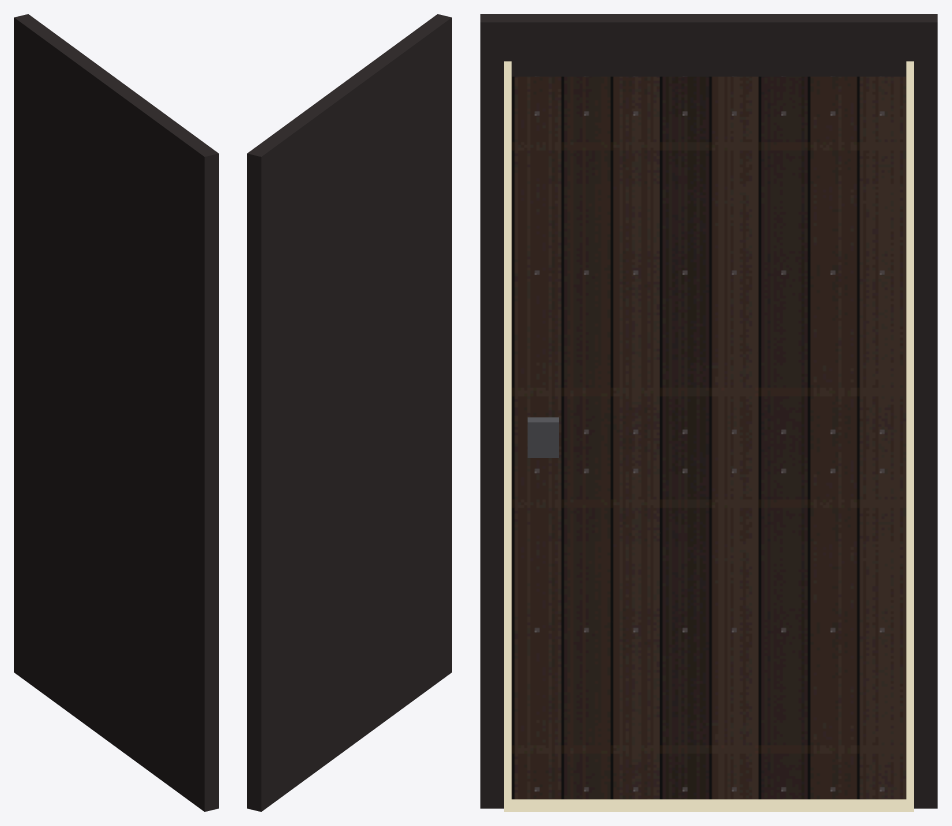
The model's file is porta_para_1950.glb.
The picture shows the model from 3 angles, left to right: view 1: azimuth 30°, elevation 25°; view 2: azimuth 150°, elevation 25°; view 3: azimuth 270°, elevation 25°; orthographic projection. The views are drawn at different scales.
Parts seen in each view (by area): view 1: Porta_0; view 2: Porta_0; view 3: Porta_0.
Part boxes in pixels (left/top/right/bottom): Porta_0: left=14, top=14, right=218, bottom=811; Porta_0: left=247, top=14, right=451, bottom=811; Porta_0: left=480, top=14, right=937, bottom=811.
Bounding box in the file's own units: 0.09 × 2.2 × 1.16.
4 materials, 1 textured.
